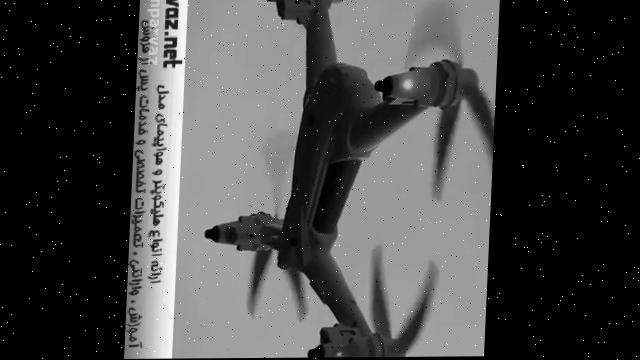drone: (201, 0, 500, 359)
